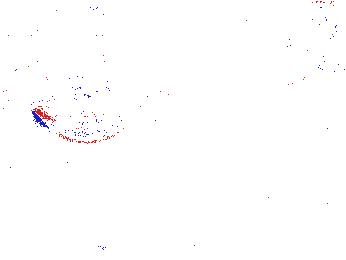moon jellyfish: (244, 1, 340, 85), (31, 81, 145, 144), (34, 3, 85, 92), (1, 1, 36, 94)
